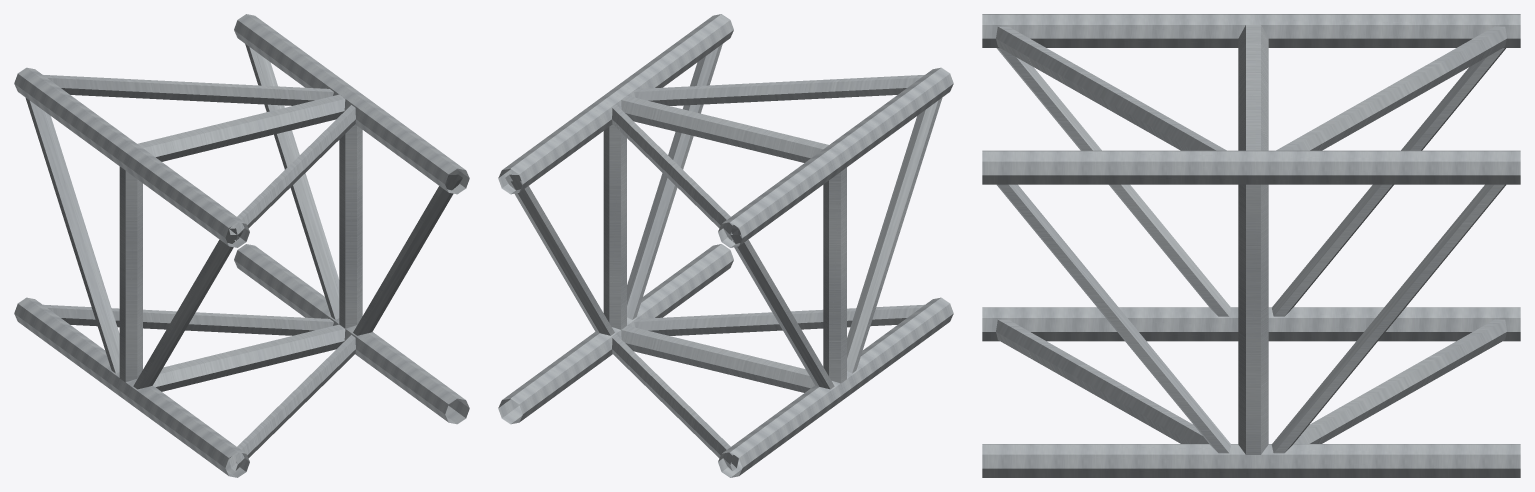
The model's file is tower003_02.FBX.
3 views of the same model, side by side, from view 1: azimuth 30°, elevation 25°; view 2: azimuth 150°, elevation 25°; view 3: azimuth 270°, elevation 25° (orthographic). The views are drawn at different scales.
Visible parts, largest first — view 1: tower003_02; view 2: tower003_02; view 3: tower003_02.
Part boxes in pixels (x1,y1,x2,y2): tower003_02: (14, 14, 469, 477); tower003_02: (498, 14, 953, 477); tower003_02: (982, 14, 1520, 477).
Size of the model in its own units: 328 by 328 by 492.
